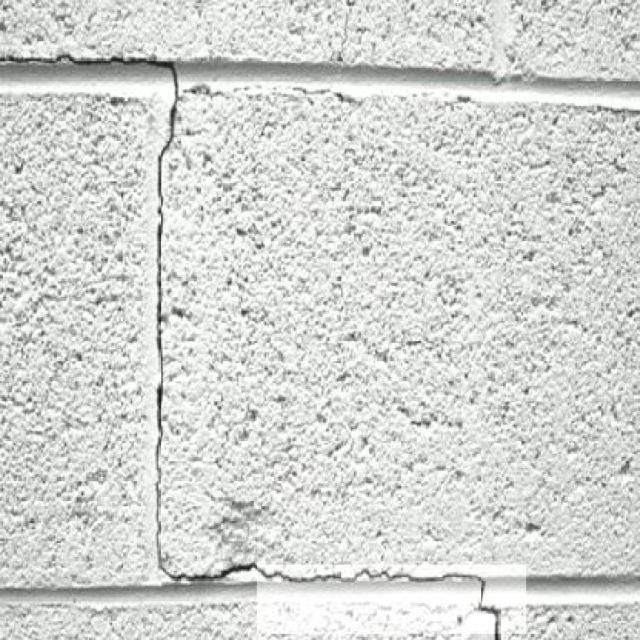Crack: (126, 94, 202, 571), (174, 553, 543, 639), (5, 5, 178, 91)
